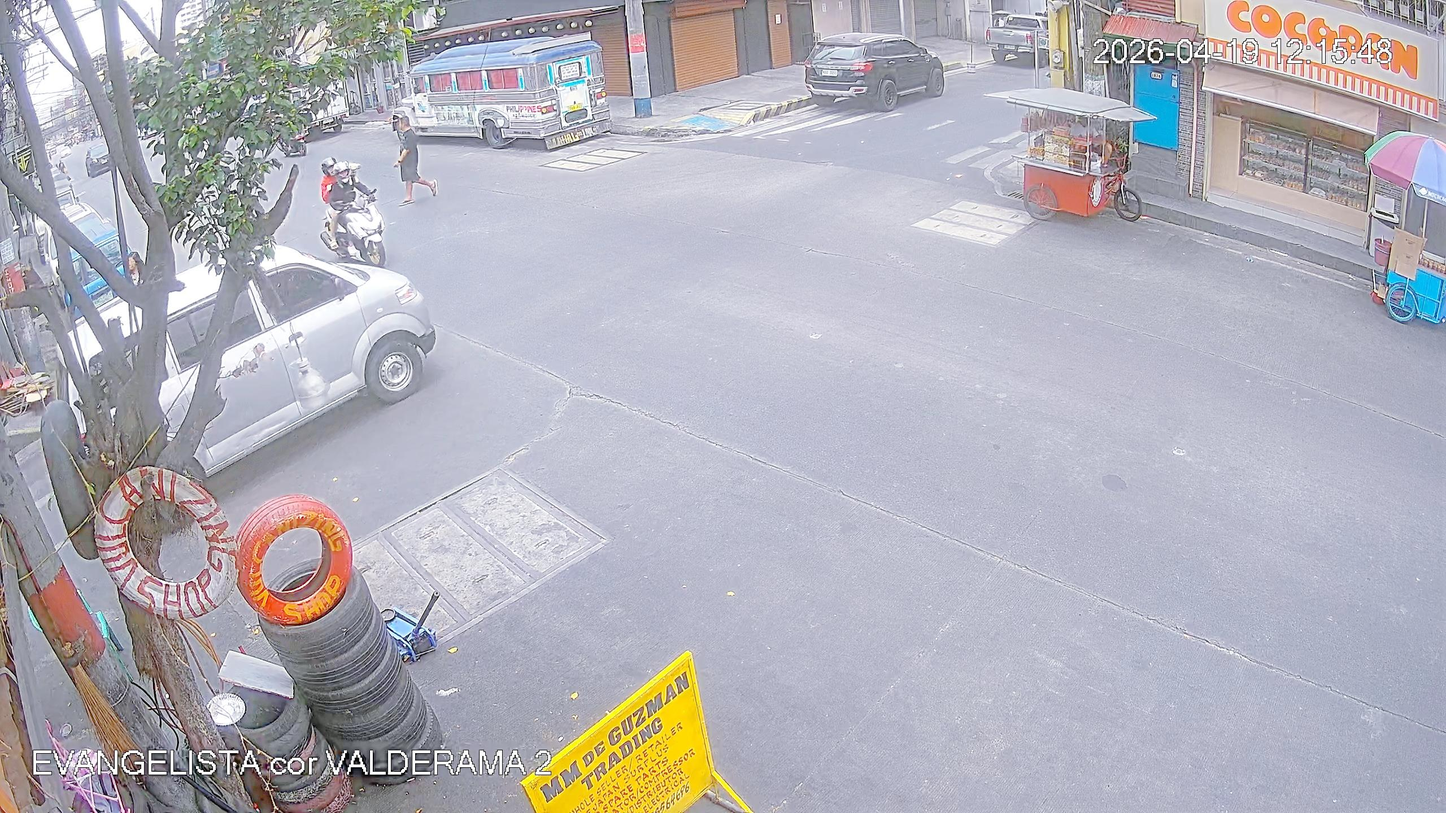Car: (43, 257, 433, 421), (809, 32, 947, 114), (987, 15, 1048, 71)
Motor: (314, 156, 384, 261)
